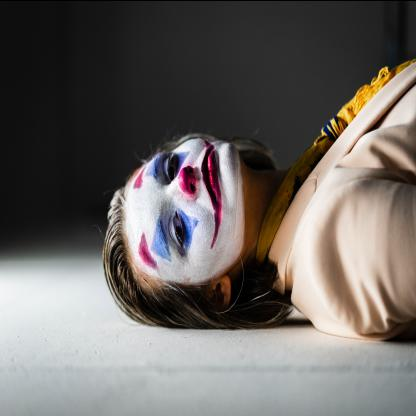Eye: (170, 208, 186, 249), (164, 151, 178, 181)
Mouth: (201, 145, 219, 200)
Nose: (168, 165, 196, 200)
